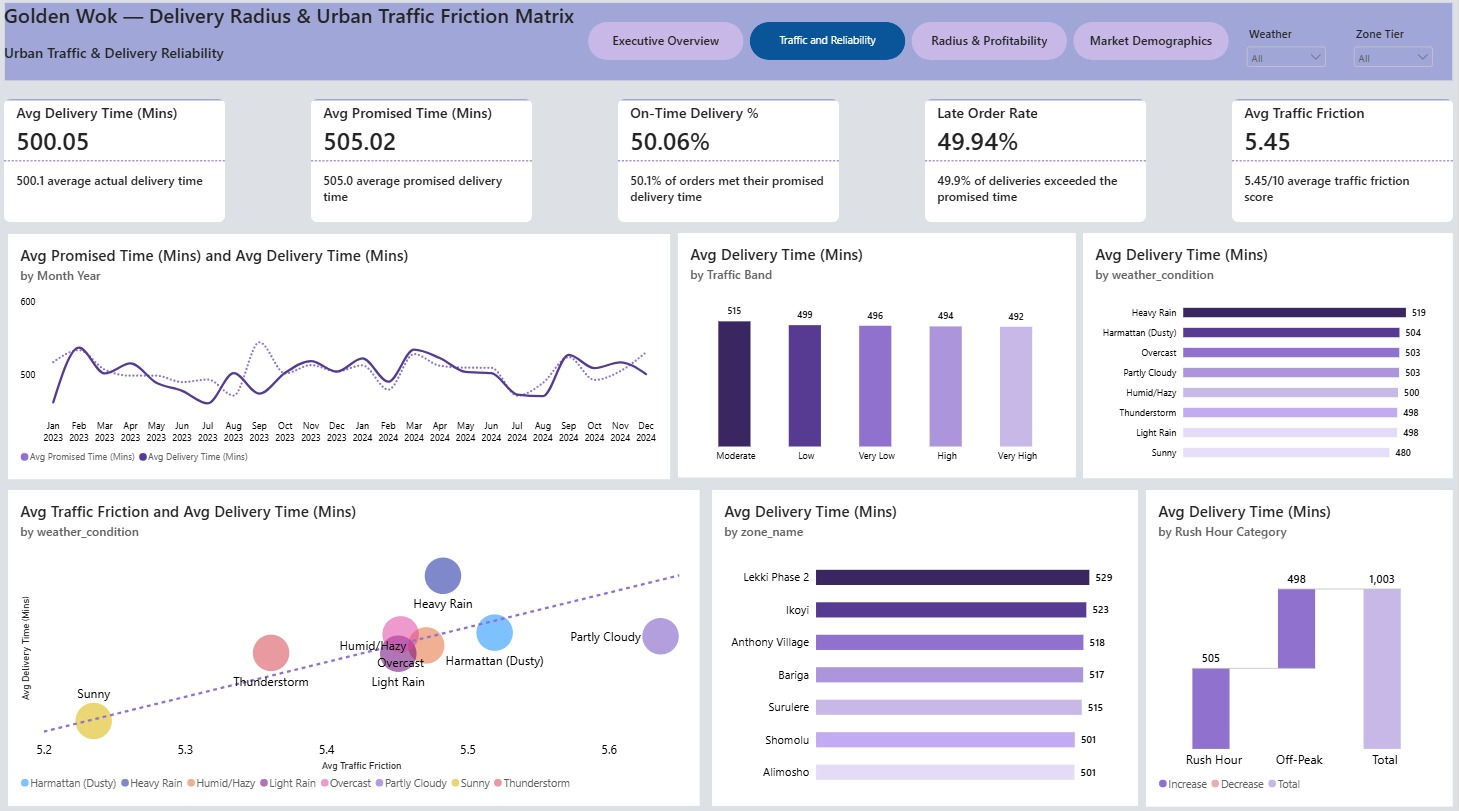

The dashboard page shown, as its layout file describes it:
{"tool":"powerbi","page":{"name":"Traffic and Reliability","canvas":[1920,1080],"ordinal":1},"visuals":[{"type":"shape","box":[5.7,10,1908.6,104.3],"z":0},{"type":"cardVisual","fields":{"Data":["Dax Measure.Avg Delivery Time"]},"box":[5.6,138.9,291.7,162.5],"z":1000},{"type":"cardVisual","fields":{"Data":["Dax Measure.Avg Promised Delivery Time"]},"box":[409.7,138.9,291.7,162.5],"z":2000},{"type":"cardVisual","fields":{"Data":["Dax Measure.On-Time Delivery %"]},"box":[813.9,138.9,291.7,162.5],"z":3000},{"type":"cardVisual","fields":{"Data":["Dax Measure.Late Order %"]},"box":[1218.1,138.9,291.7,162.5],"z":4000},{"type":"cardVisual","fields":{"Data":["Dax Measure.Avg Traffic Friction"]},"box":[1622.2,138.9,291.7,162.5],"z":5000},{"type":"lineChart","fields":{"Category":["Date.Month Year"],"Y":["Dax Measure.Avg Promised Time (Mins)","Dax Measure.Avg Delivery Time (Mins)"]},"box":[10.5,316.1,871.9,322.7],"z":6000},{"type":"clusteredColumnChart","fields":{"Category":["fact_orders.Traffic Band"],"Y":["Dax Measure.Avg Delivery Time (Mins)"]},"box":[893.1,315.3,523.6,322.2],"z":7000},{"type":"clusteredBarChart","fields":{"Category":["dim_time_slot.weather_condition"],"Y":["Dax Measure.Avg Delivery Time (Mins)"]},"box":[1426.4,314.8,487.3,322.7],"z":8000},{"type":"textbox","box":[5.4,9.5,760.8,105.4],"z":9000},{"type":"scatterChart","fields":{"Series":["dim_time_slot.weather_condition"],"X":["Dax Measure.Avg Traffic Friction"],"Y":["Dax Measure.Avg Delivery Time (Mins)"]},"box":[10.5,653.3,911.4,416.2],"z":10000},{"type":"clusteredBarChart","fields":{"Category":["dim_delivery_zone.zone_name"],"Y":["Dax Measure.Avg Delivery Time (Mins)"]},"box":[937.8,653.3,561.1,416.2],"z":11000},{"type":"waterfallChart","fields":{"Category":["dim_time_slot.Rush Hour Category"],"Y":["Dax Measure.Avg Delivery Time (Mins)"]},"box":[1510,653,404,417],"z":12000},{"type":"pageNavigator","box":[774.3,36.5,847.3,50],"z":12001},{"type":"slicer","fields":{"Values":["dim_rider.vehicle_type"]},"box":[1636.5,41.9,113.5,60.8],"z":12002},{"type":"slicer","fields":{"Values":["dim_delivery_zone.zone_tier"]},"box":[1778.4,41.9,113.5,60.8],"z":12003}]}

Visuals, with their boxes in screenshot pixels (x1, y1, x2, y2), scaled from the page's 1920x1080 canvas onto the 1459x811 screenshot:
shape: x1=4, y1=8, x2=1455, y2=86
cardVisual - Dax Measure.Avg Delivery Time: x1=4, y1=104, x2=226, y2=226
cardVisual - Dax Measure.Avg Promised Delivery Time: x1=311, y1=104, x2=533, y2=226
cardVisual - Dax Measure.On-Time Delivery %: x1=618, y1=104, x2=840, y2=226
cardVisual - Dax Measure.Late Order %: x1=926, y1=104, x2=1147, y2=226
cardVisual - Dax Measure.Avg Traffic Friction: x1=1233, y1=104, x2=1454, y2=226
lineChart - Date.Month Year x Dax Measure.Avg Promised Time (Mins): x1=8, y1=237, x2=671, y2=480
clusteredColumnChart - fact_orders.Traffic Band x Dax Measure.Avg Delivery Time (Mins): x1=679, y1=237, x2=1077, y2=479
clusteredBarChart - dim_time_slot.weather_condition x Dax Measure.Avg Delivery Time (Mins): x1=1084, y1=236, x2=1454, y2=479
textbox: x1=4, y1=7, x2=582, y2=86
scatterChart - dim_time_slot.weather_condition x Dax Measure.Avg Traffic Friction: x1=8, y1=491, x2=701, y2=803
clusteredBarChart - dim_delivery_zone.zone_name x Dax Measure.Avg Delivery Time (Mins): x1=713, y1=491, x2=1139, y2=803
waterfallChart - dim_time_slot.Rush Hour Category x Dax Measure.Avg Delivery Time (Mins): x1=1147, y1=490, x2=1454, y2=803
pageNavigator: x1=588, y1=27, x2=1232, y2=65
slicer - dim_rider.vehicle_type: x1=1244, y1=31, x2=1330, y2=77
slicer - dim_delivery_zone.zone_tier: x1=1351, y1=31, x2=1438, y2=77
